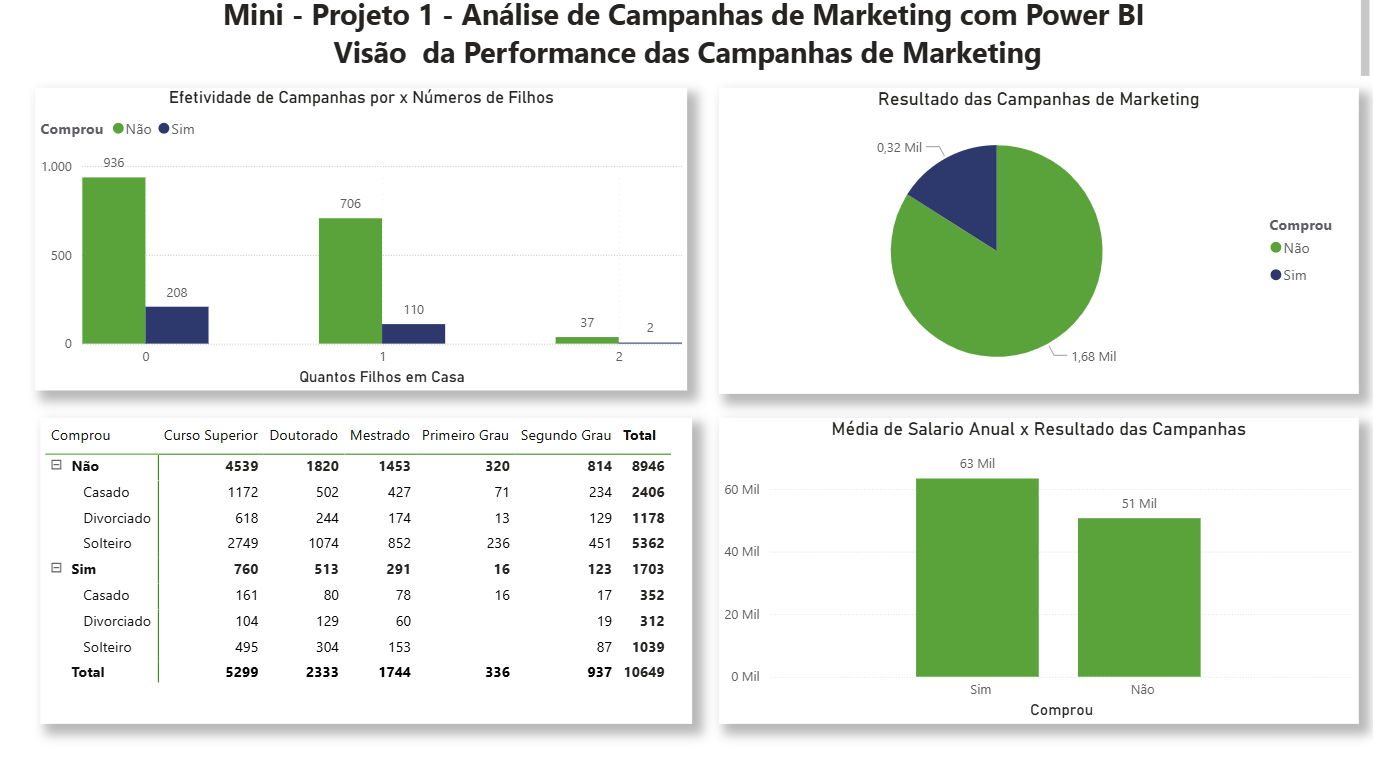

The dashboard page shown, as its layout file describes it:
{"tool":"powerbi","page":{"name":"Visão Campanhas","canvas":[1280,720],"ordinal":2},"visuals":[{"type":"textbox","box":[9.5,0,1270.7,91.4],"z":0},{"type":"pieChart","title":"Resultado das Campanhas de Marketing","fields":{"Category":["Dados Marketing.Comprou"],"Y":["CountNonNull(Dados Marketing.ID)"]},"box":[669.7,91.5,595.1,284.9],"z":1000},{"type":"clusteredColumnChart","title":"Média de Salario Anual x Resultado das Campanhas","fields":{"Category":["Dados Marketing.Comprou"],"Y":["Median(Dados Marketing.Salario Anual)"]},"box":[669.7,398.5,595.1,284.9],"z":2000},{"type":"pivotTable","fields":{"Rows":["Dados Marketing.Comprou","Dados Marketing.Estado Civil"],"Values":["Sum(Dados Marketing.Numero Visitas WebSite Mes)"],"Columns":["Dados Marketing.Escolaridade"]},"box":[37.9,398.5,606.7,284.9],"z":3000},{"type":"clusteredColumnChart","title":"Efetividade de Campanhas por  x  Números de Filhos","fields":{"Category":["Dados Marketing.Filhos em Casa"],"Series":["Dados Marketing.Comprou"],"Y":["CountNonNull(Dados Marketing.Filhos em Casa)"]},"box":[33.6,91.5,606.7,281.8],"z":4000}]}

Visuals, with their boxes in screenshot pixels (x1, y1, x2, y2), scaled from the page's 1280x720 canvas onto the 1373x757 screenshot:
textbox: pyautogui.locateOnScreen(10, 0, 1372, 96)
"Resultado das Campanhas de Marketing" pieChart: pyautogui.locateOnScreen(718, 96, 1357, 396)
"Média de Salario Anual x Resultado das Campanhas" clusteredColumnChart: pyautogui.locateOnScreen(718, 419, 1357, 719)
pivotTable - Dados Marketing.Comprou x Dados Marketing.Estado Civil: pyautogui.locateOnScreen(41, 419, 691, 719)
"Efetividade de Campanhas por  x  Números de Filhos" clusteredColumnChart: pyautogui.locateOnScreen(36, 96, 687, 392)
